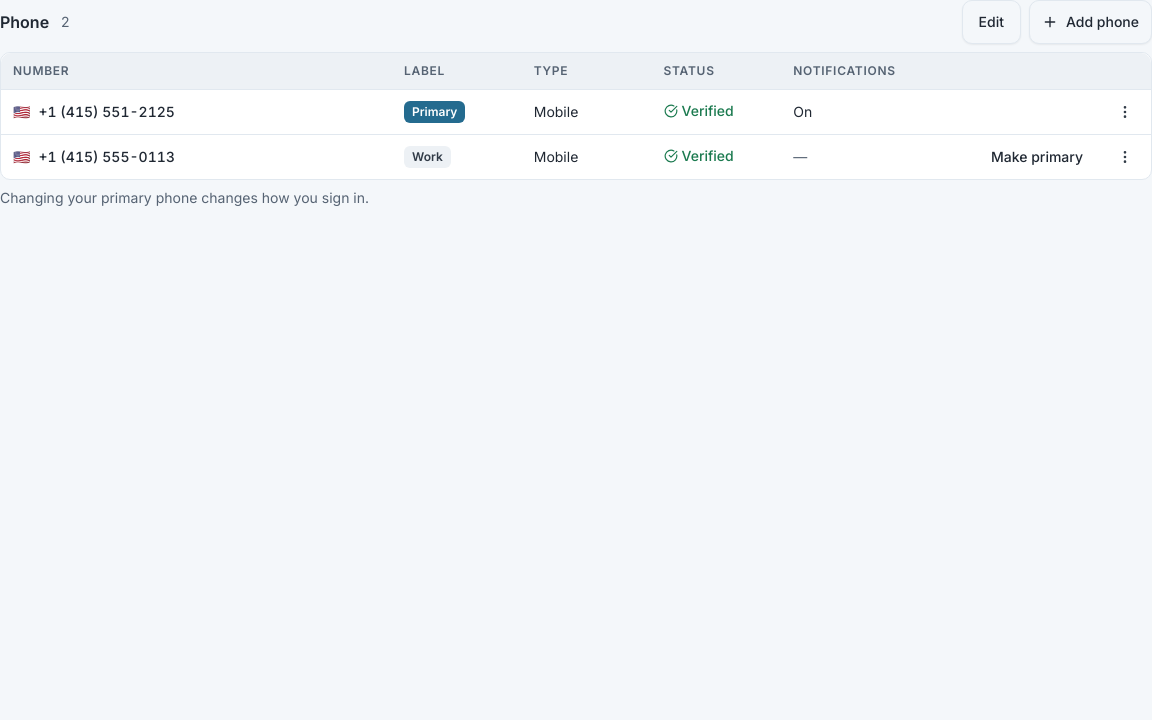
Test: PhoneSection: Make primary confirm and send (Story 3.4) › the kebab's Make primary opens the same confirm; Cancel returns focus to the kebab
Press Enter in the button named "More actions for +1 (415) 555-0113", box [1103,134,1147,178]
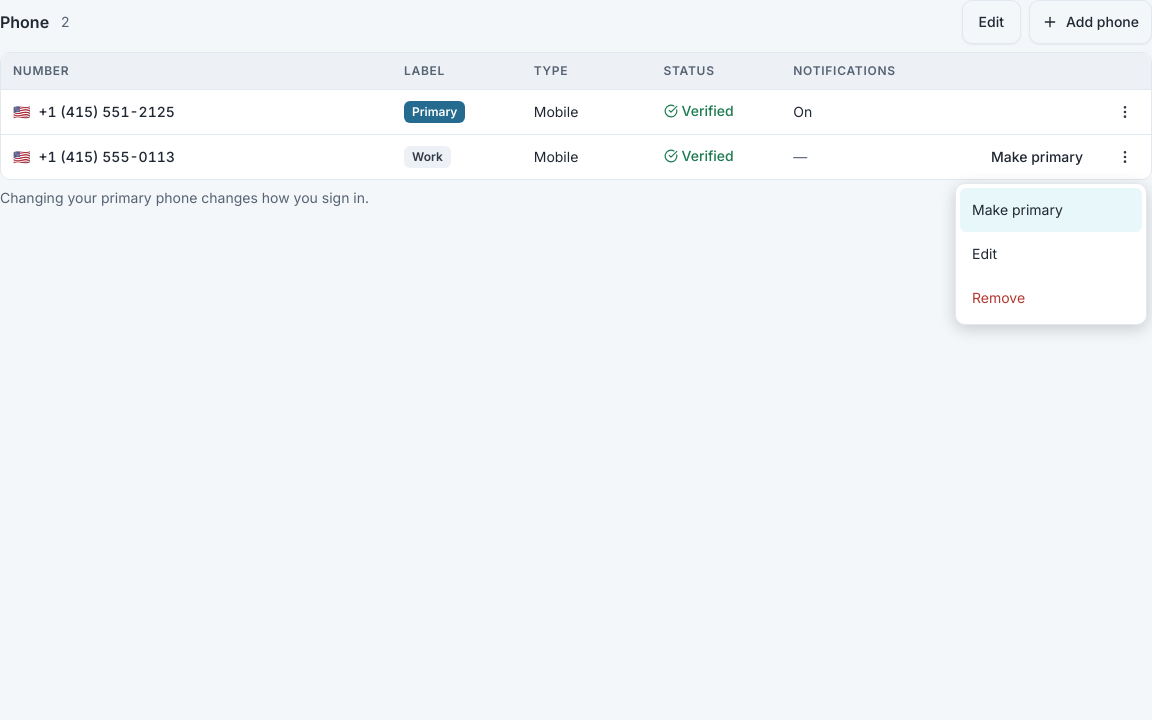
Click the menu item "Make primary". click: (1051, 210)
box: [960,188,1142,232]
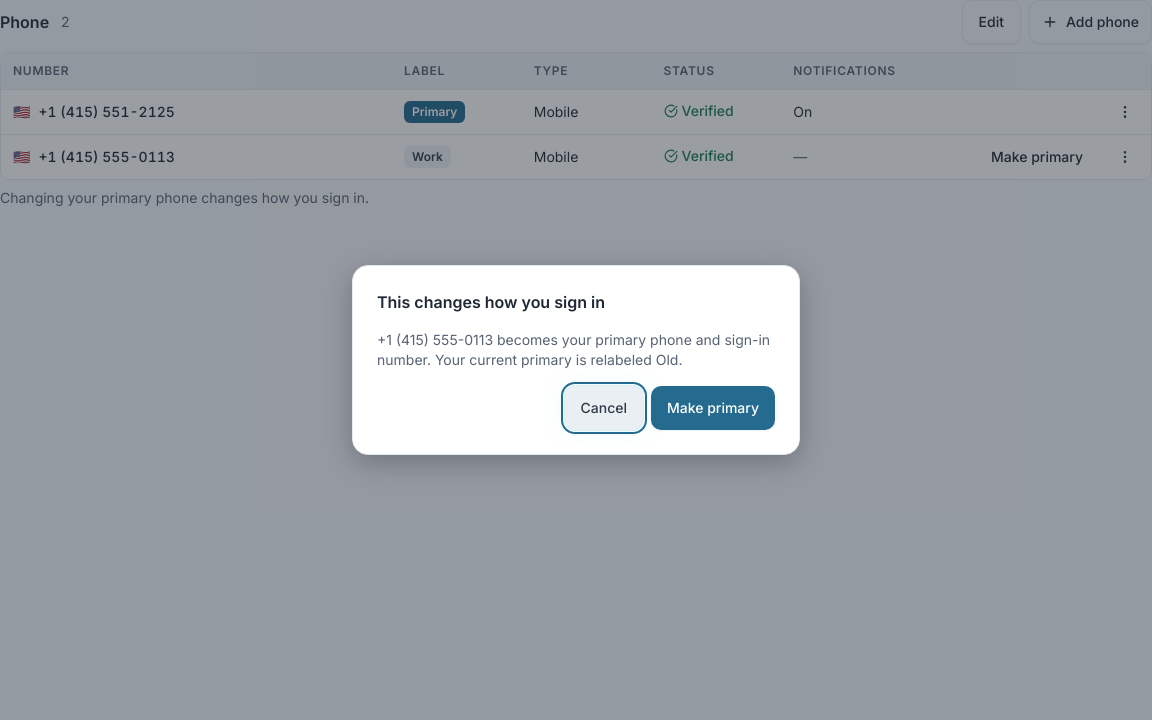
Check: the dialog is shown, box [352,265,800,455]
Click the button "Cancel". click: (604, 408)
box: [564,386,643,430]
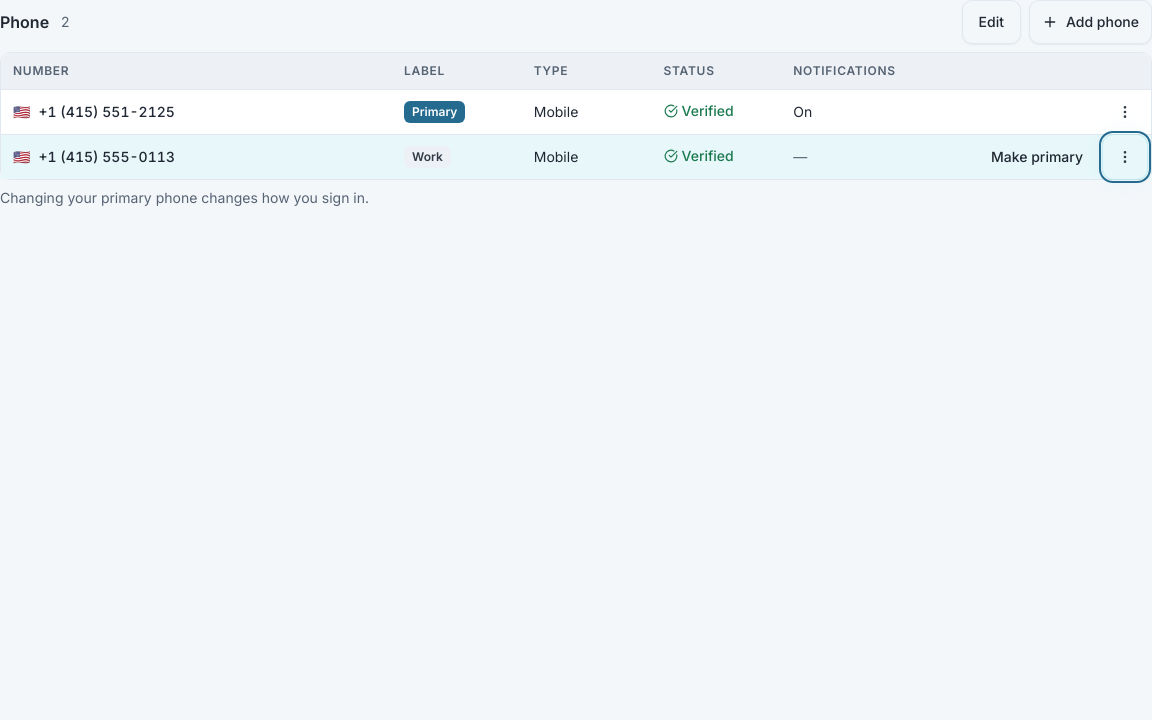
Check: the dialog is gone
